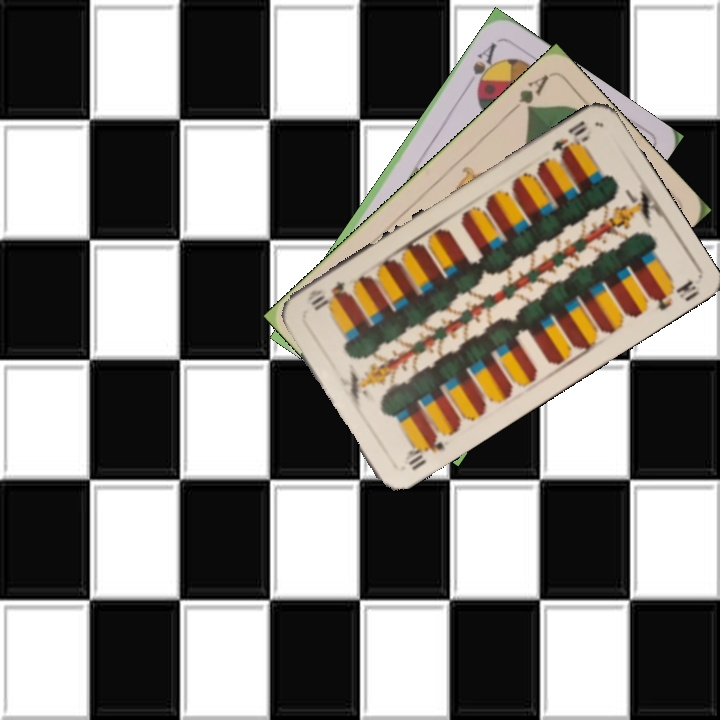E10: (399, 430, 447, 474), (547, 116, 593, 161)
GA: (505, 69, 552, 117)
SA: (468, 38, 500, 95)
